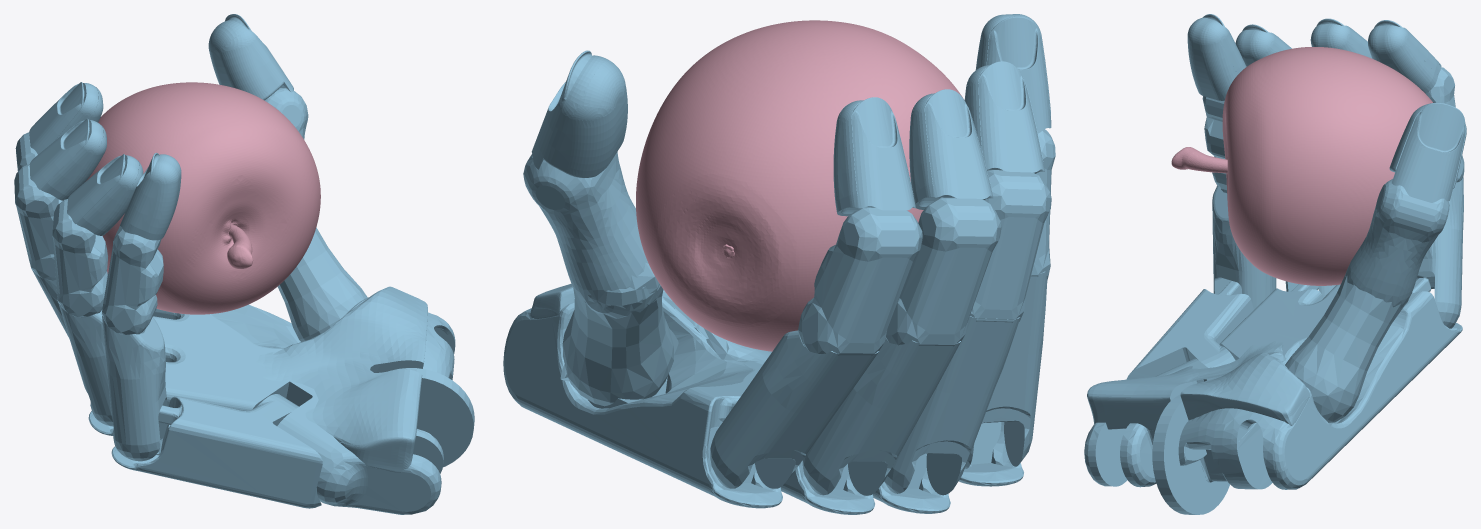
The picture shows the model from 3 angles, left to right: view 1: azimuth 30°, elevation 25°; view 2: azimuth 150°, elevation 25°; view 3: azimuth 270°, elevation 25°; orthographic projection. The views are drawn at different scales.
Visible parts, largest first — view 1: world; view 2: world; view 3: world.
Boxes of the visible parts, x1,y1,x2,y2 form: world: [14, 14, 474, 514]; world: [503, 14, 1055, 514]; world: [1084, 14, 1466, 514].
Size of the model in its own units: 0.145 by 0.1344 by 0.1222.
